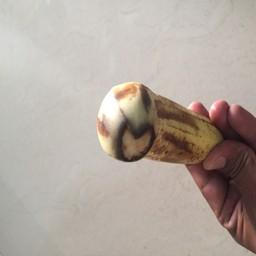Bad_banana: (94, 79, 238, 172)
